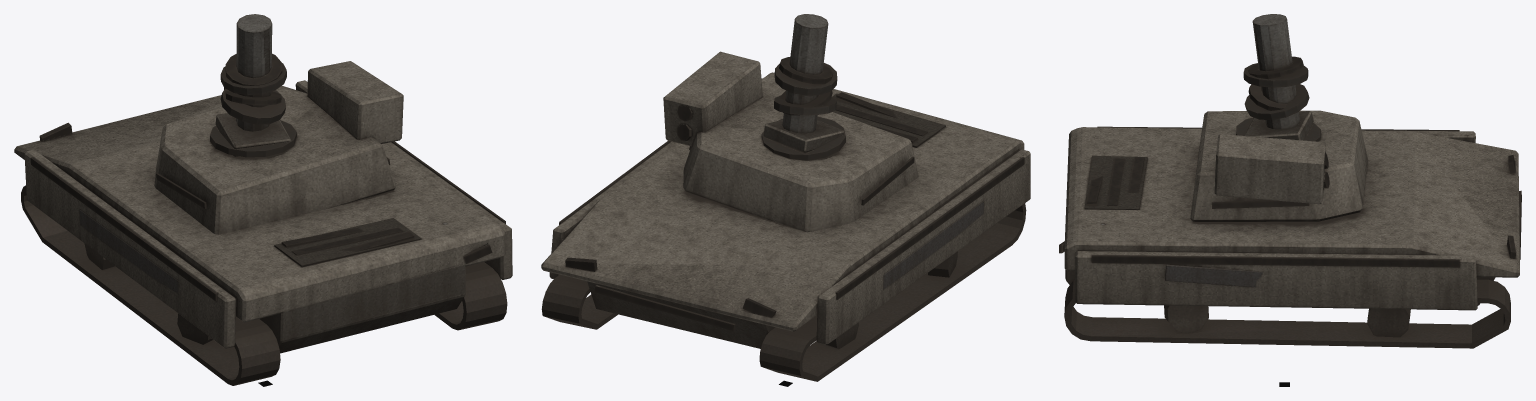
File: ord_fulgur_wreck.fbx
3 views of the same model, side by side, from view 1: azimuth 30°, elevation 25°; view 2: azimuth 150°, elevation 25°; view 3: azimuth 270°, elevation 25° (orthographic). The views are drawn at different scales.
Visible parts, largest first — view 1: base_bar, turret_bar, trackL_bar, barrel_bar, trackR_bar; view 2: base_bar, turret_bar, trackL_bar, barrel_bar, trackR_bar; view 3: base_bar, turret_bar, trackR_bar, barrel_bar.
Boxes of the visible parts, x1=… form: base_bar: x1=14, y1=80, x2=512, y2=353; turret_bar: x1=154, y1=61, x2=403, y2=234; trackL_bar: x1=21, y1=185, x2=280, y2=385; barrel_bar: x1=215, y1=14, x2=290, y2=156; trackR_bar: x1=434, y1=262, x2=507, y2=330; base_bar: x1=541, y1=72, x2=1030, y2=348; turret_bar: x1=663, y1=51, x2=918, y2=231; trackL_bar: x1=759, y1=203, x2=1026, y2=381; barrel_bar: x1=763, y1=14, x2=844, y2=152; trackR_bar: x1=541, y1=275, x2=617, y2=329; base_bar: x1=1059, y1=126, x2=1521, y2=310; turret_bar: x1=1190, y1=110, x2=1367, y2=221; trackR_bar: x1=1064, y1=279, x2=1510, y2=348; barrel_bar: x1=1243, y1=14, x2=1313, y2=140.
Size of the model in its own units: 599 by 732 by 857.
2 materials, 2 textured.
